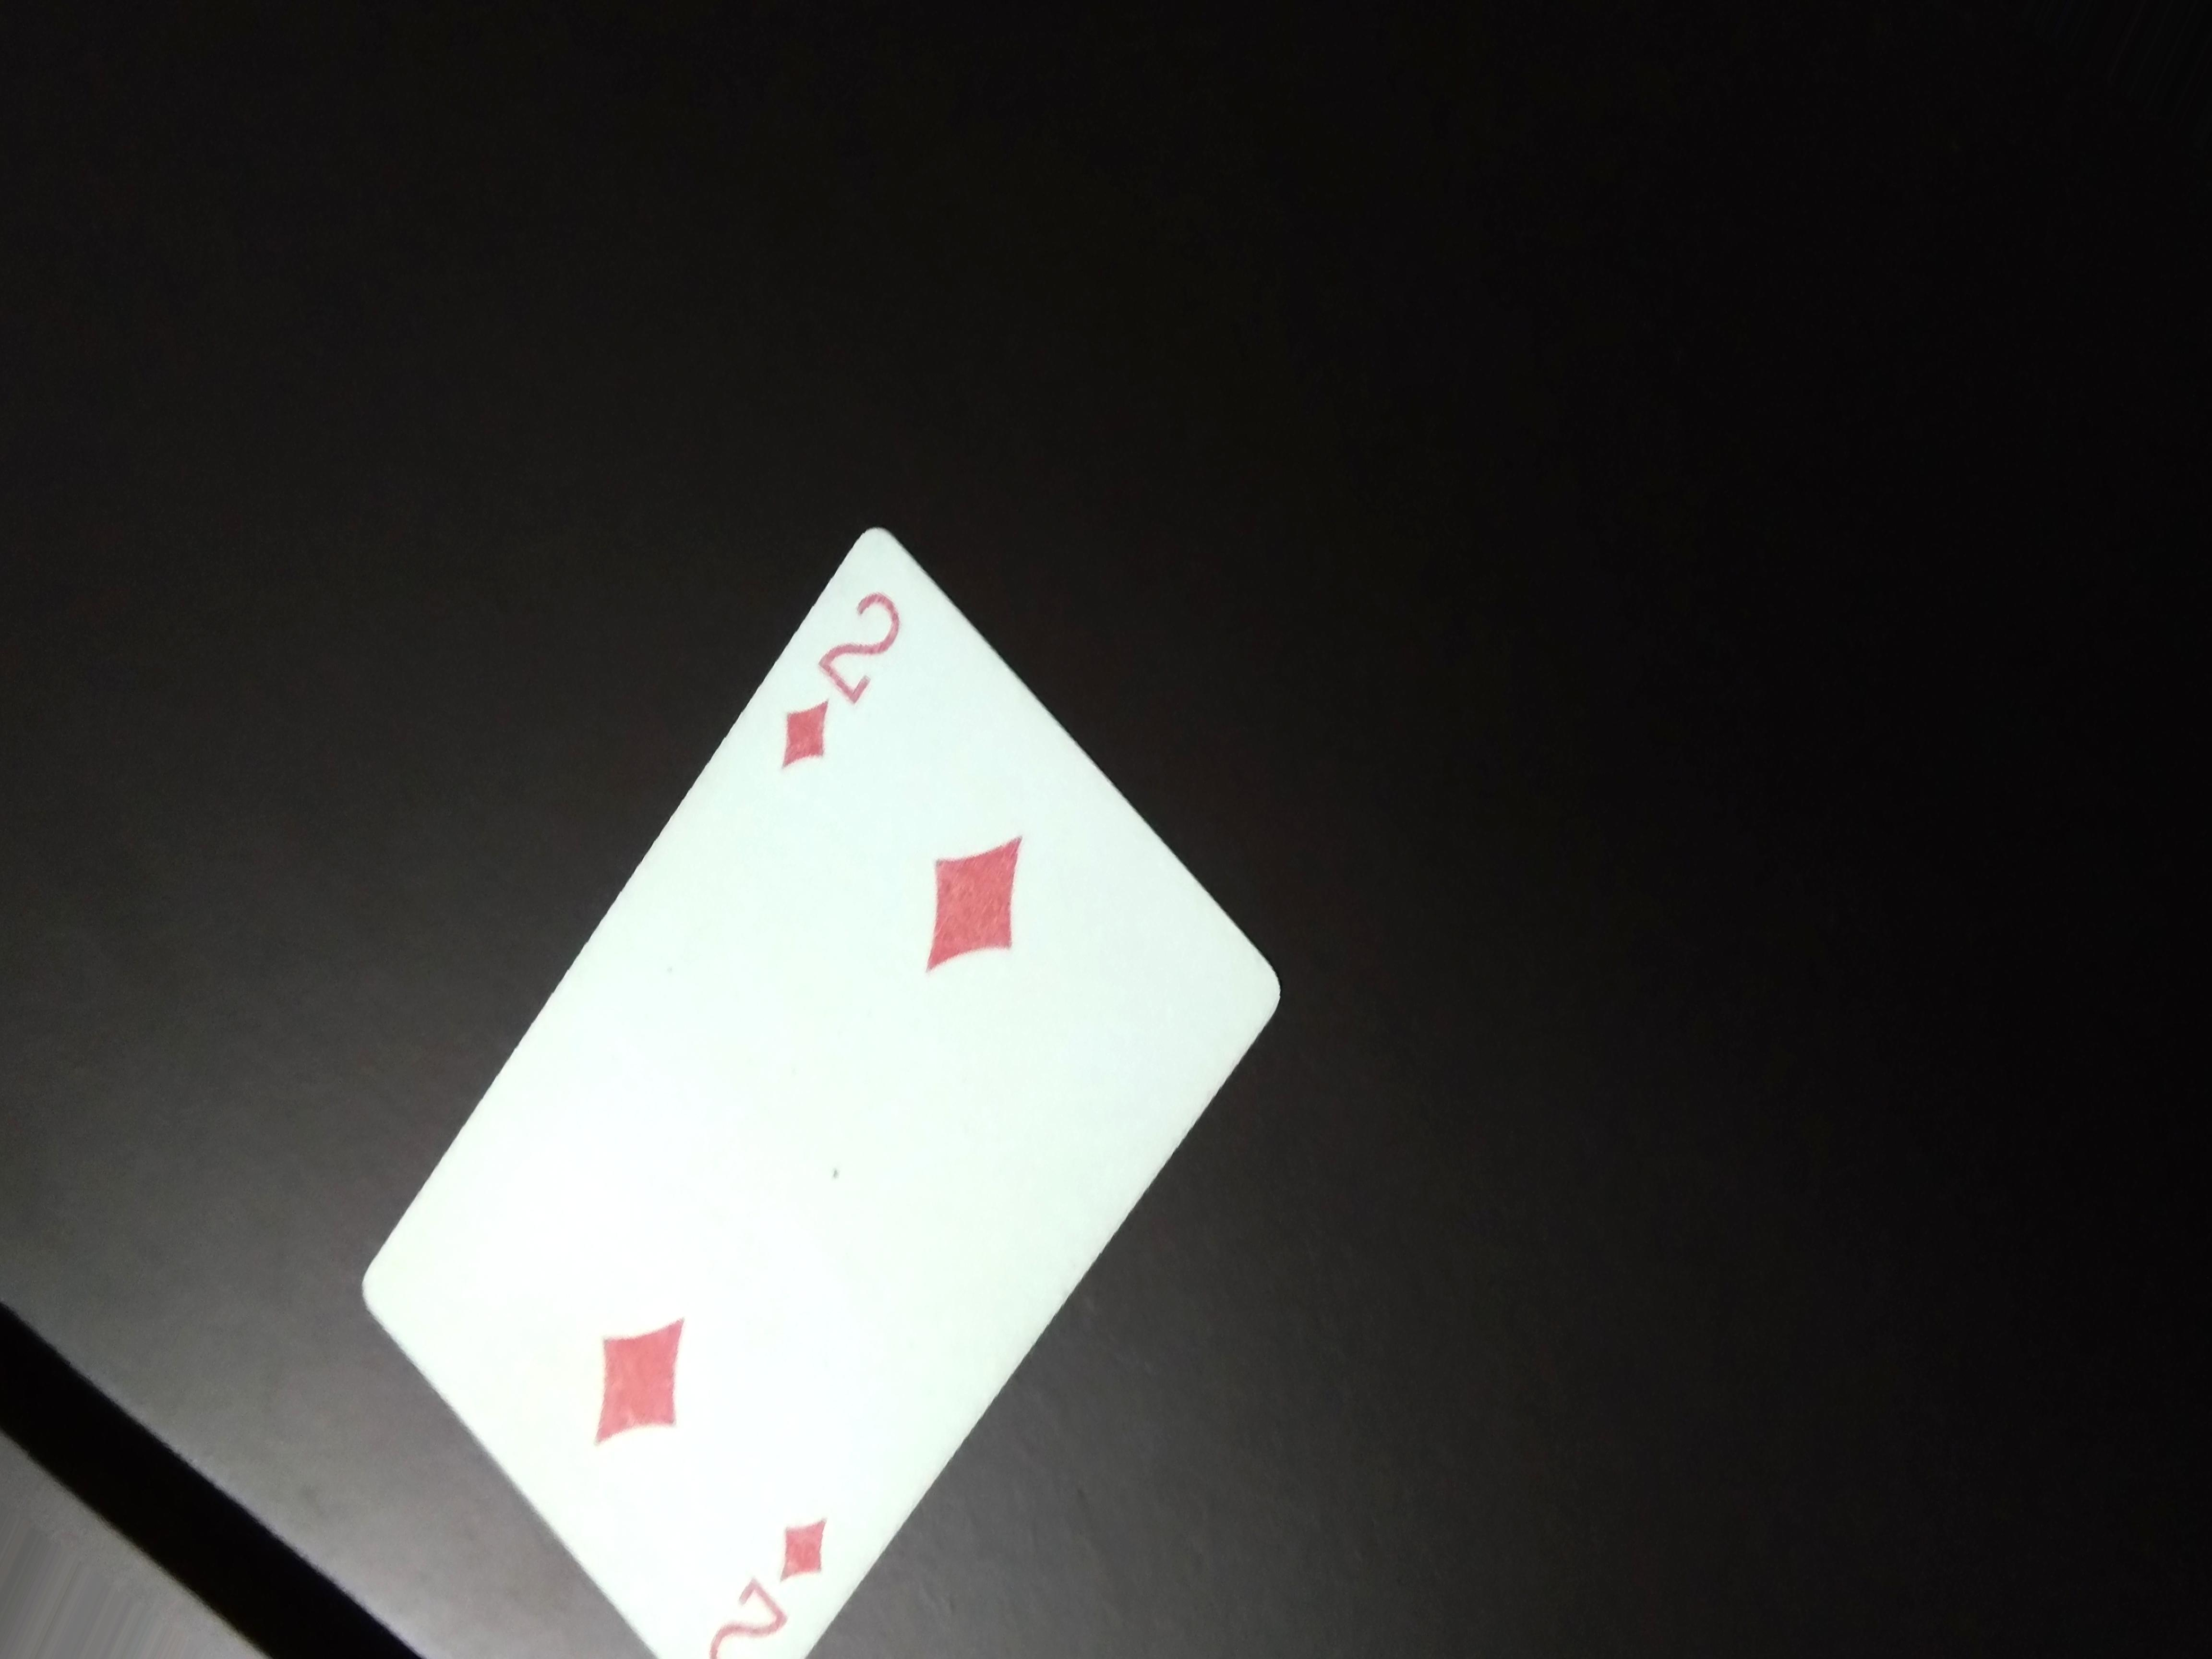2D: (765, 577, 913, 798)
